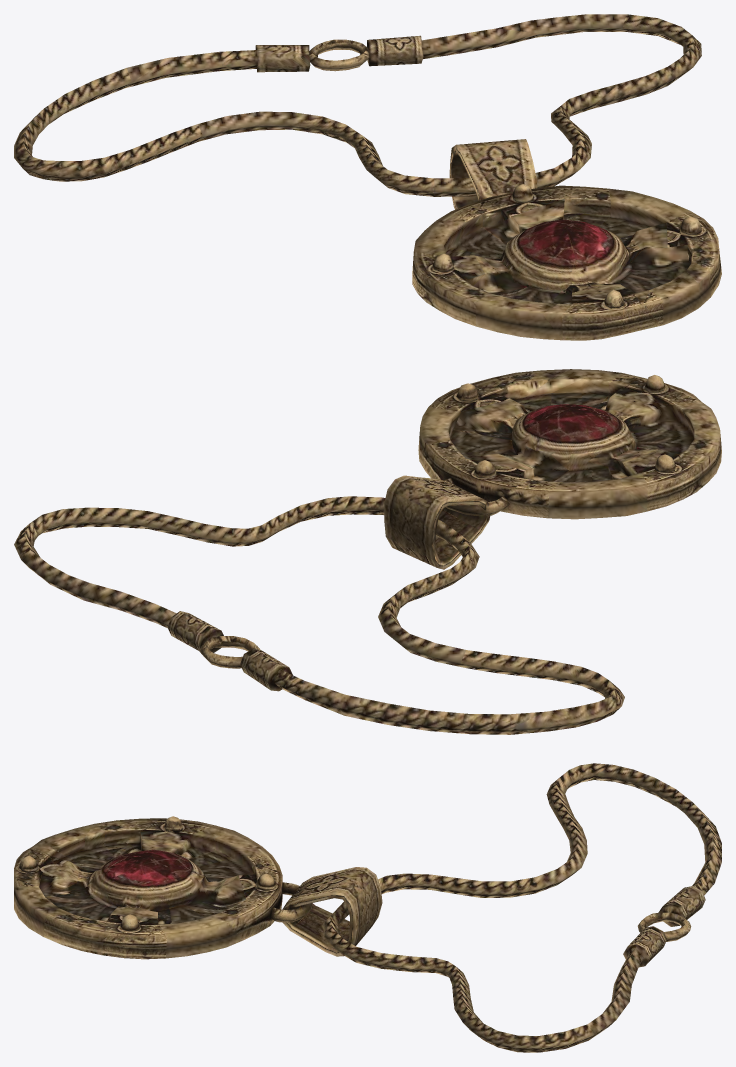
File: g_amulet.glb
3 views of the same model, one above another, from view 1: azimuth 30°, elevation 25°; view 2: azimuth 150°, elevation 25°; view 3: azimuth 270°, elevation 25° (orthographic). The views are drawn at different scales.
Parts seen in each view (by area): view 1: g_amulet; view 2: g_amulet; view 3: g_amulet.
Part boxes in pixels (x1=…): g_amulet: x1=14, y1=14, x2=721, y2=340; g_amulet: x1=14, y1=369, x2=721, y2=734; g_amulet: x1=14, y1=763, x2=721, y2=1052.
Size of the model in its own units: 0.28 by 0.0334 by 0.2985.
1 material, 1 textured.
